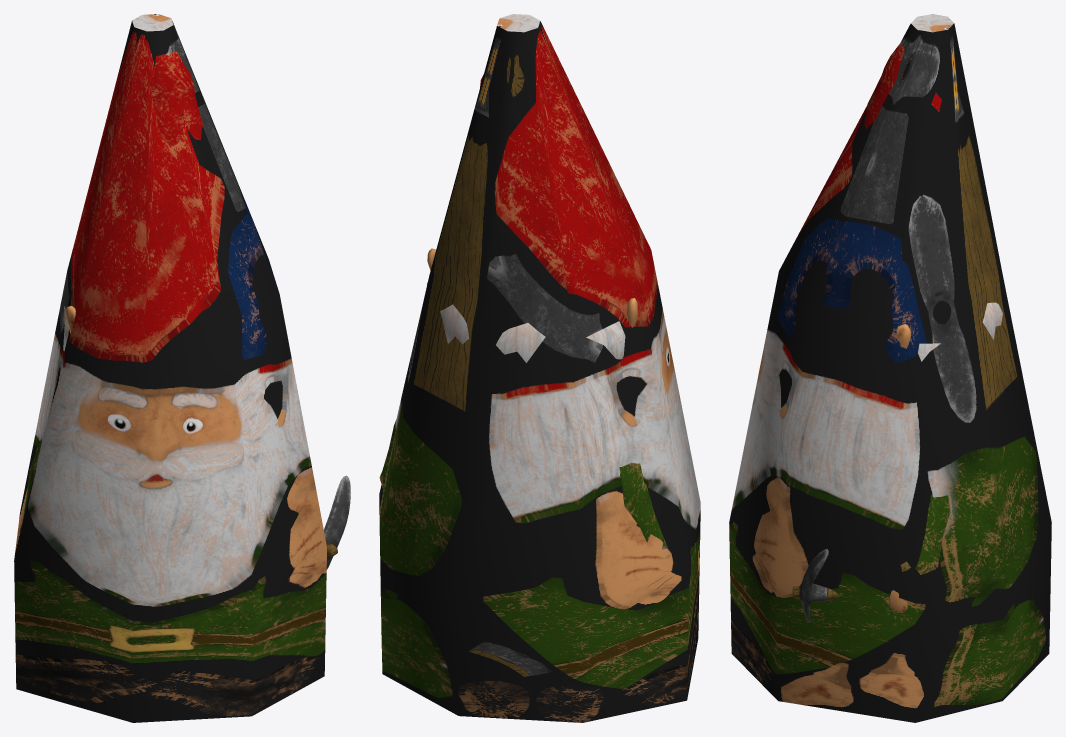
Rendered from garden_gnome_C.FBX.
3 renders of one model, left to right at view 1: azimuth 30°, elevation 25°; view 2: azimuth 150°, elevation 25°; view 3: azimuth 270°, elevation 25°, orthographic. The views are drawn at different scales.
Parts seen in each view (by area): view 1: garden_gnome_C_COL, garden_gnome_LOD0; view 2: garden_gnome_C_COL, garden_gnome_LOD0; view 3: garden_gnome_C_COL, garden_gnome_LOD0.
Boxes of the visible parts, bbox=[...] form: garden_gnome_C_COL: bbox=[14, 14, 326, 722]; garden_gnome_LOD0: bbox=[19, 51, 350, 569]; garden_gnome_C_COL: bbox=[379, 14, 700, 722]; garden_gnome_LOD0: bbox=[379, 74, 667, 549]; garden_gnome_C_COL: bbox=[729, 14, 1051, 722]; garden_gnome_LOD0: bbox=[792, 44, 1002, 622].
Size of what is drawn, in the model's own units: 24.43 by 49 by 22.73.
